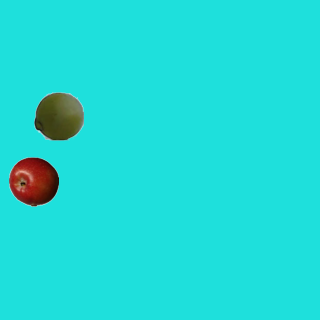Apple Braeburn: (8, 156, 58, 206)
Grape White 4: (33, 90, 83, 140)
